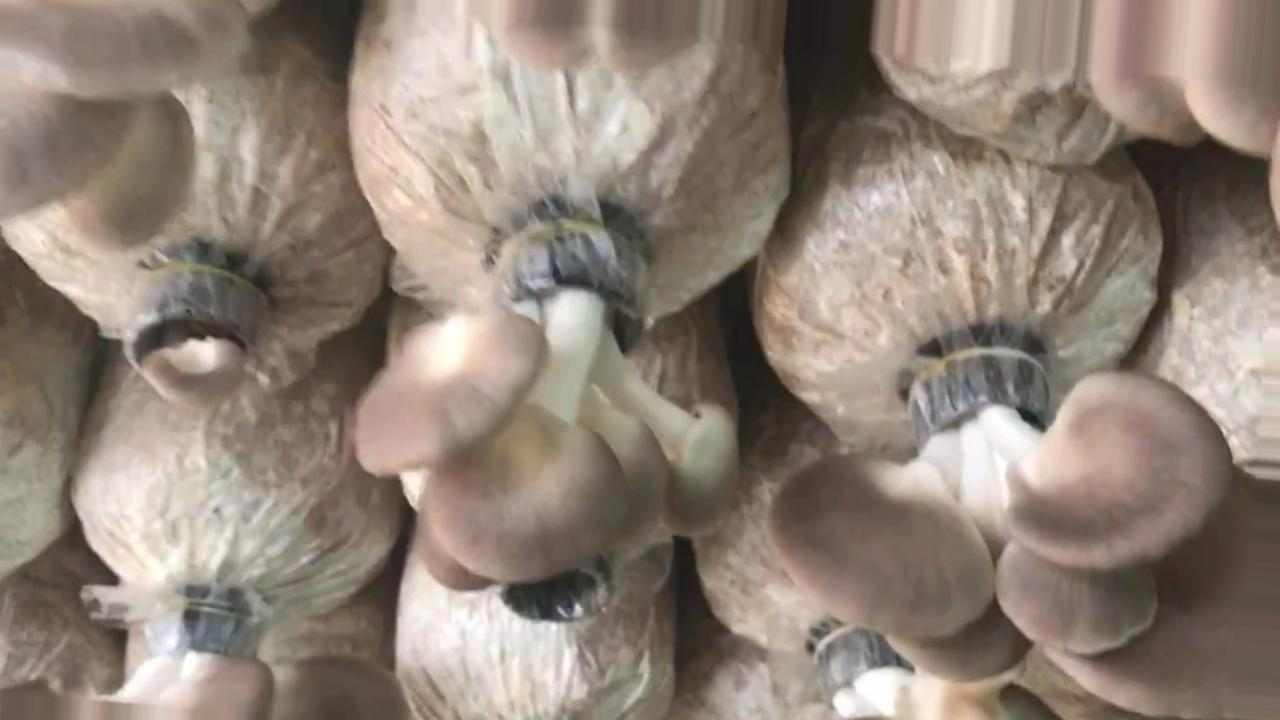nam: (771, 350, 1280, 718), (360, 231, 743, 587), (1, 1, 248, 244), (1, 614, 402, 717), (1091, 2, 1280, 161), (125, 273, 260, 405)
